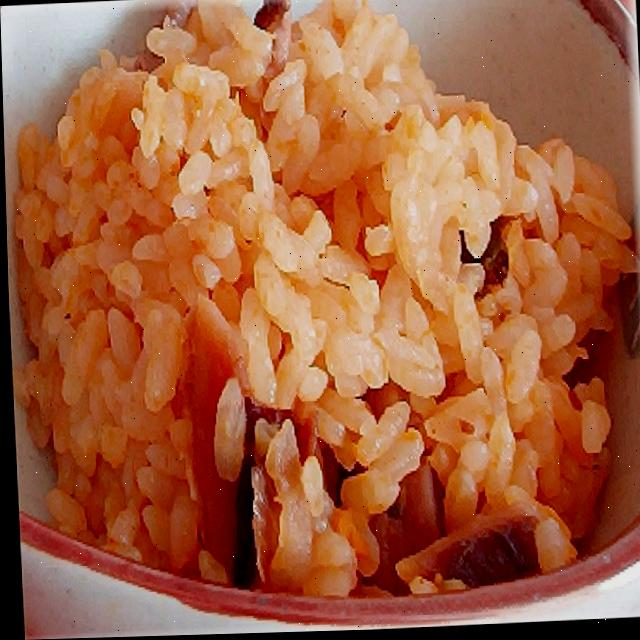米饭主食: (11, 0, 640, 616)
